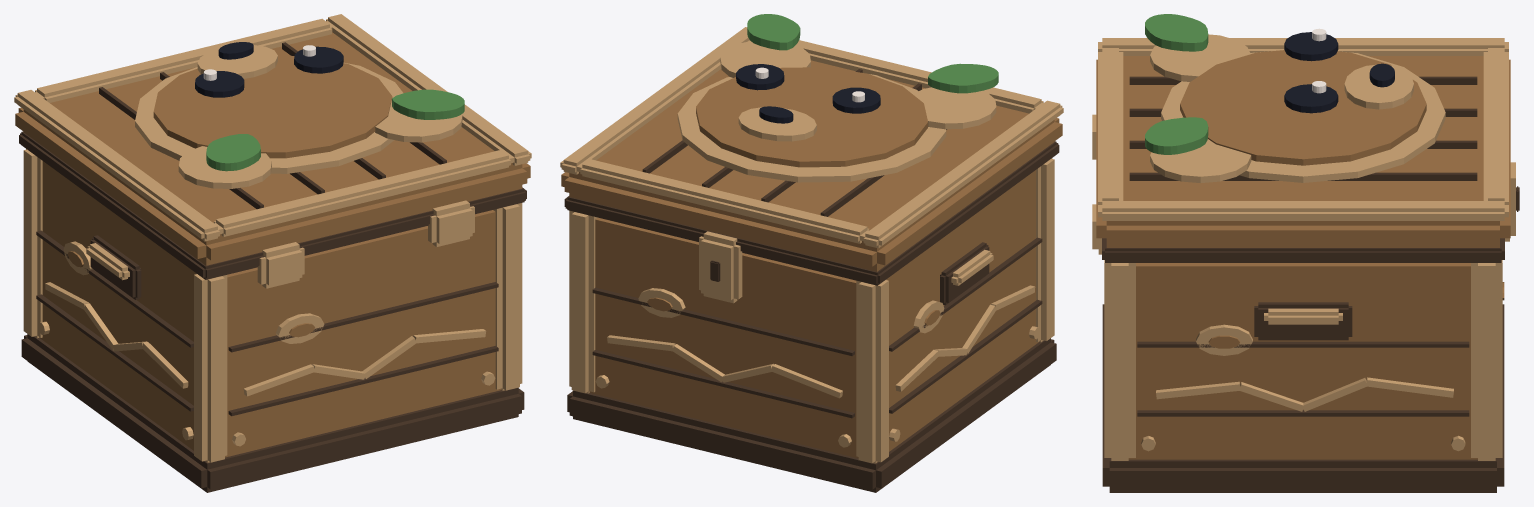
Rendered from crate_urso_madeira.fbx.
The picture shows the model from 3 angles, left to right: view 1: azimuth 30°, elevation 25°; view 2: azimuth 150°, elevation 25°; view 3: azimuth 270°, elevation 25°; orthographic projection. The views are drawn at different scales.
Parts seen in each view (by area): view 1: crate_urso_madeira_caixa; view 2: crate_urso_madeira_caixa; view 3: crate_urso_madeira_caixa.
Boxes of the visible parts, x1=… form: crate_urso_madeira_caixa: x1=14, y1=14, x2=531, y2=492; crate_urso_madeira_caixa: x1=560, y1=14, x2=1063, y2=492; crate_urso_madeira_caixa: x1=1092, y1=14, x2=1519, y2=492.
Size of the model in its own units: 2.68 by 2.45 by 2.7.
1 material, 1 textured.
